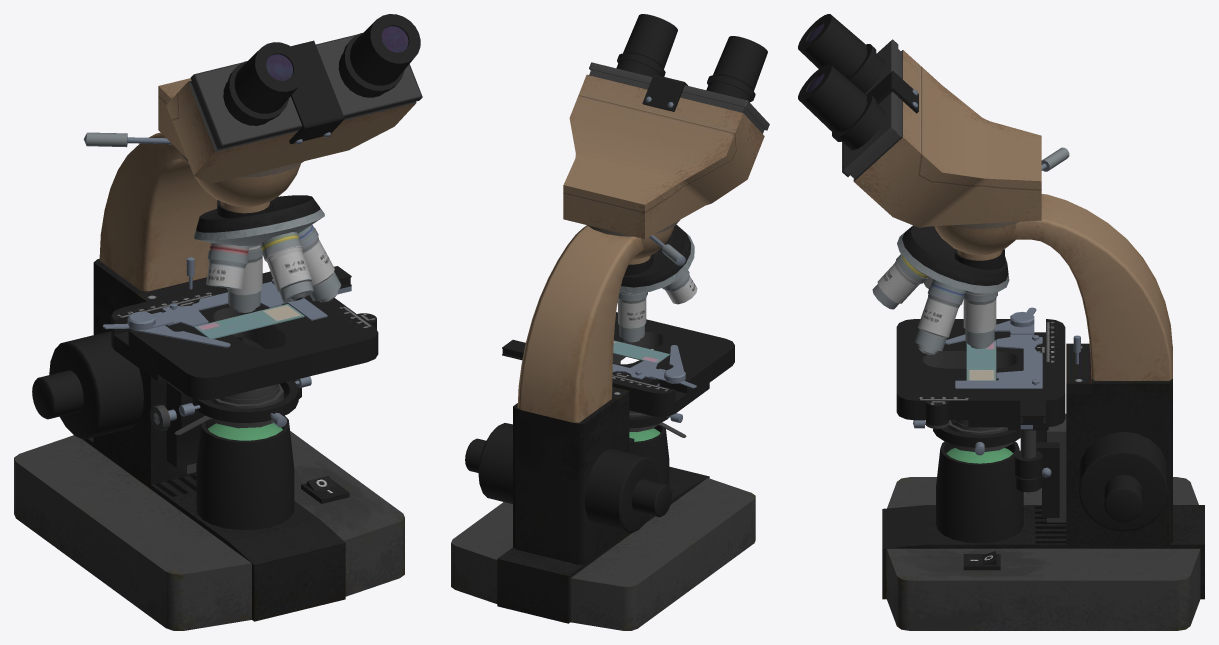
Rendered from mikroskop.glb.
3 views of the same model, side by side, from view 1: azimuth 30°, elevation 25°; view 2: azimuth 150°, elevation 25°; view 3: azimuth 270°, elevation 25° (orthographic). The views are drawn at different scales.
Visible parts, largest first — view 1: node_binocularMicroscope1_-208278_1; view 2: node_binocularMicroscope1_-208278_1; view 3: node_binocularMicroscope1_-208278_1.
Boxes of the visible parts, left/top/right/bottom form: node_binocularMicroscope1_-208278_1: left=14, top=14, right=422, bottom=630; node_binocularMicroscope1_-208278_1: left=451, top=14, right=769, bottom=630; node_binocularMicroscope1_-208278_1: left=798, top=14, right=1204, bottom=630.
Bounding box in the file's own units: 0.1445 × 0.33 × 0.2265.
Materials: 1 (1 with a texture image).
